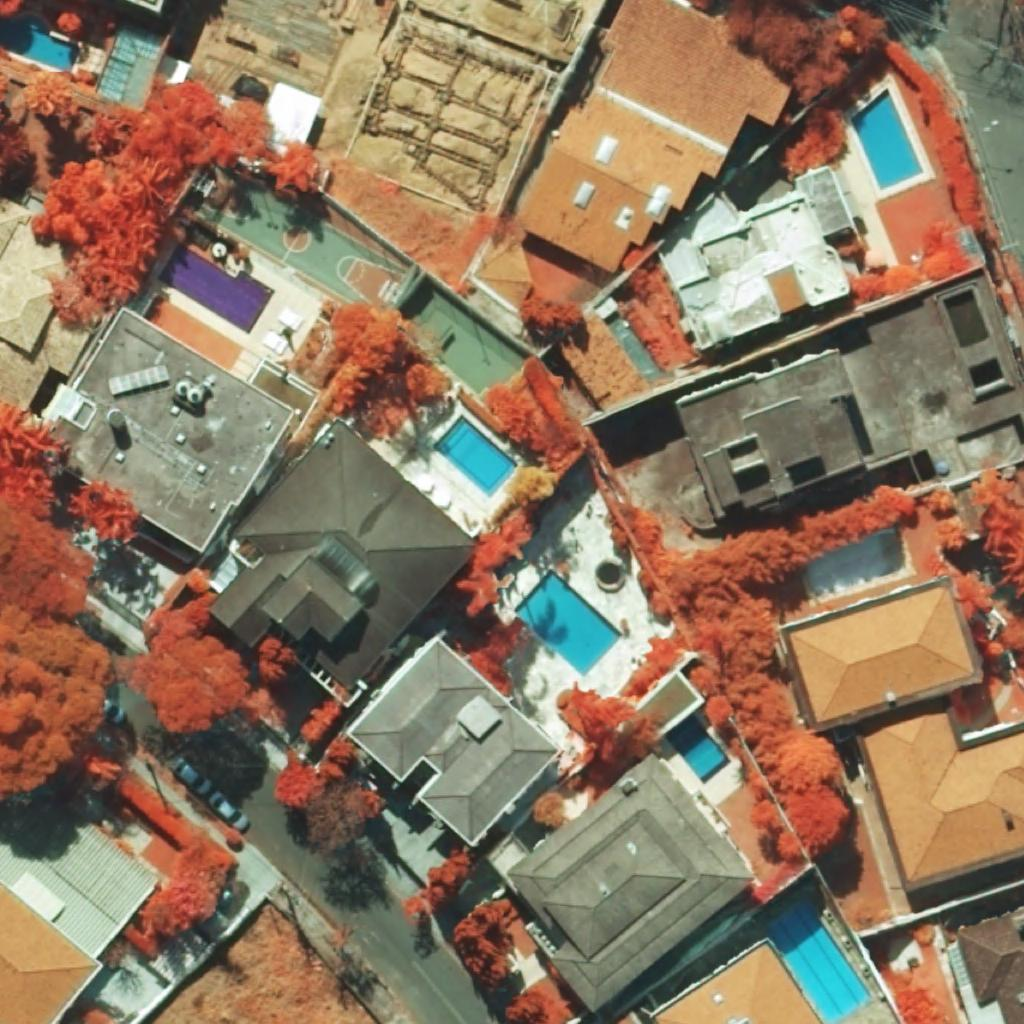pool: (766, 898, 873, 1024), (514, 569, 622, 677), (157, 244, 275, 333), (851, 87, 924, 190), (433, 415, 519, 497), (0, 13, 80, 72), (664, 714, 731, 784)
